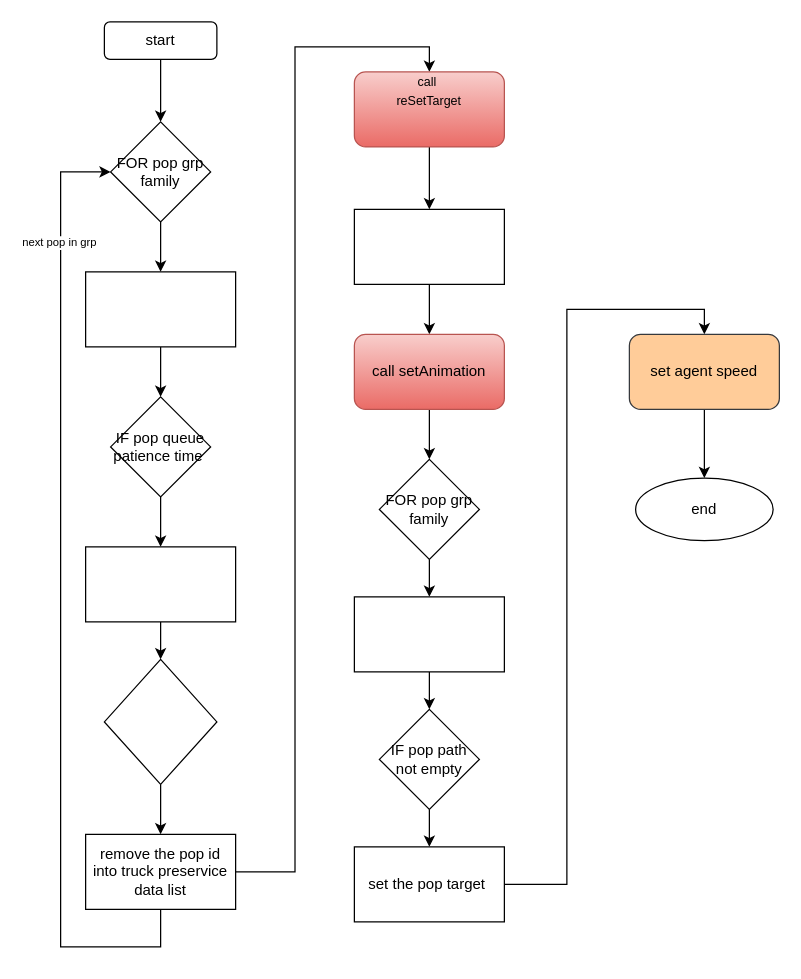
The diagram is 801 pixels wide and 979 high, and some of its shapes have lost their labels. The box of each missing label's shape, as (x1, y1, x2, y2) in pixels:
clear the queue patience timeout: (84, 546, 236, 622)
get the pop grp leader and construct truck mis anim request data: (353, 208, 504, 284)
IF truck preservice data doesn't have the pop: (103, 658, 217, 784)
set pop is now group mode and reset the queue related props: (353, 596, 504, 672)
set queue patience value as false,: (84, 271, 236, 347)
